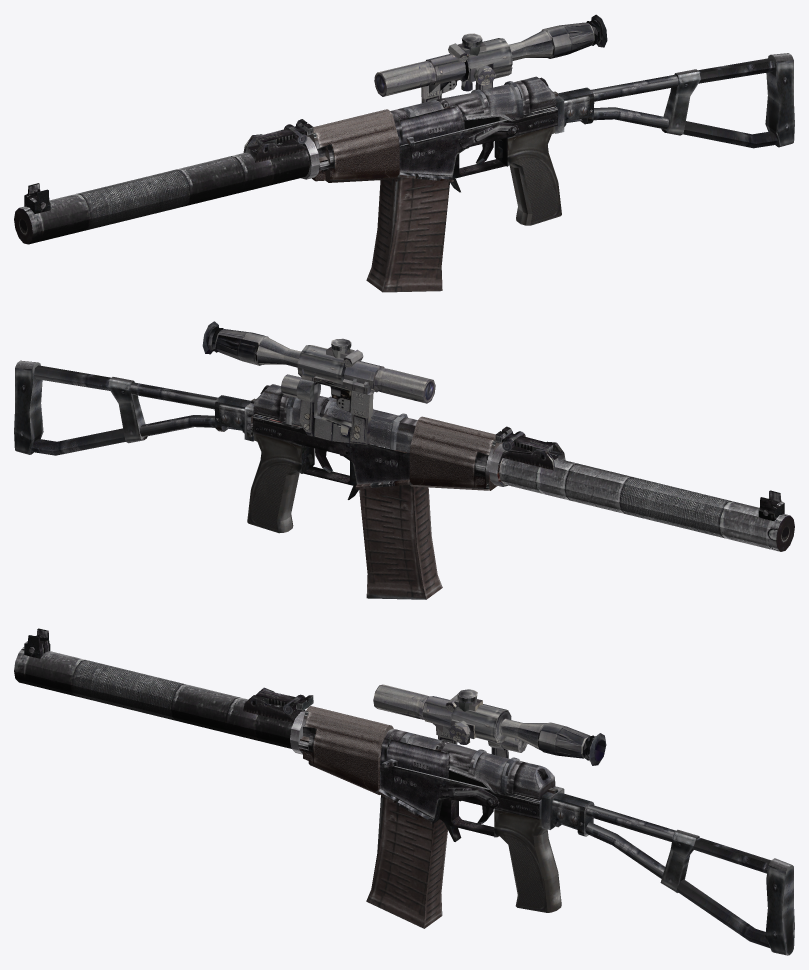
File: w_val_pso.obj
3 renders of one model, top to bottom at view 1: azimuth 30°, elevation 25°; view 2: azimuth 150°, elevation 25°; view 3: azimuth 330°, elevation 25°, orthographic.
Visible parts, largest first — view 1: Val, W_Pso1; view 2: Val, W_Pso1; view 3: Val, W_Pso1.
Part boxes in pixels (x1,y1,x2,y2): Val: [14, 53, 794, 292]; W_Pso1: [374, 14, 607, 103]; Val: [14, 360, 794, 599]; W_Pso1: [202, 321, 435, 444]; Val: [14, 628, 794, 955]; W_Pso1: [373, 684, 606, 765].
Bounding box in the file's own units: 13.2 × 3.94 × 0.8587.
